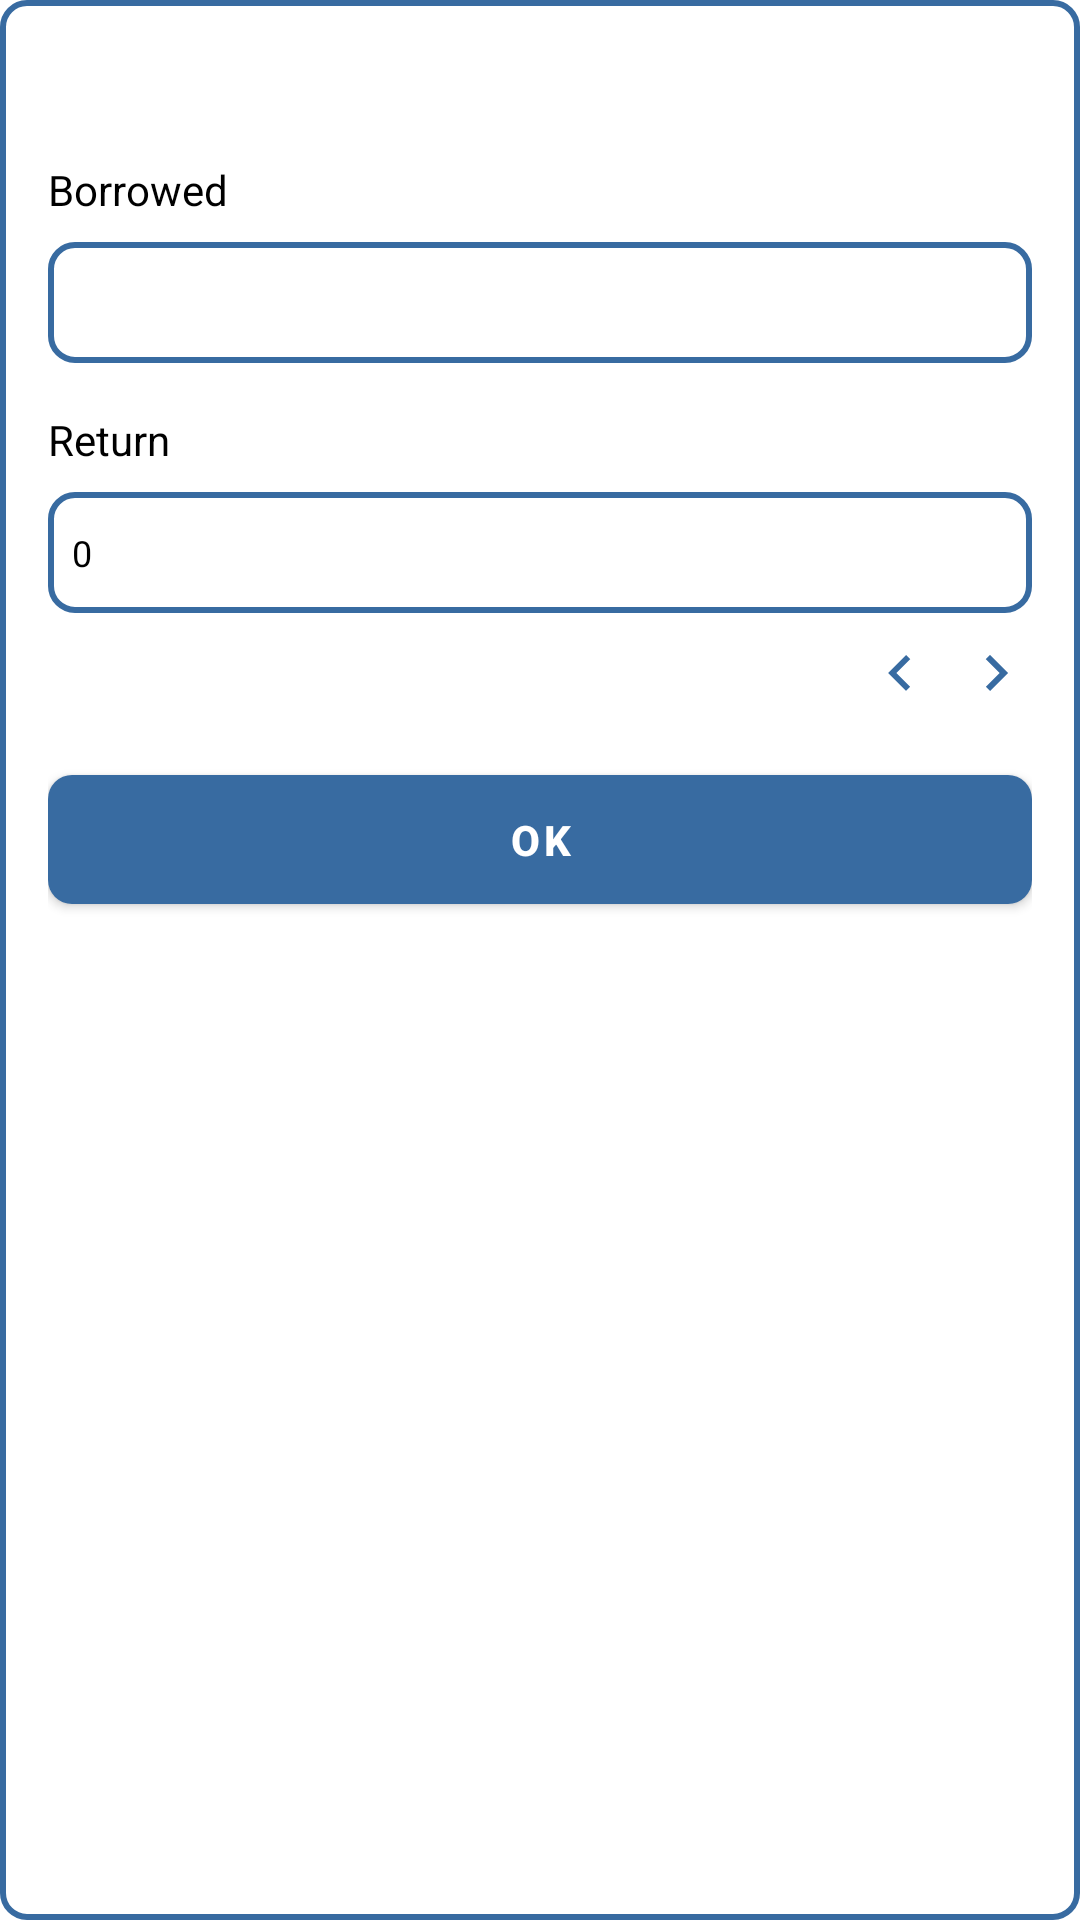

Icons on this 1080*1920 Android screen, each with its box as [left=x1, top=y1, right=x2, bottom=y2]:
arrow left: [left=888, top=655, right=910, bottom=691]
arrow right: [left=986, top=655, right=1008, bottom=691]
